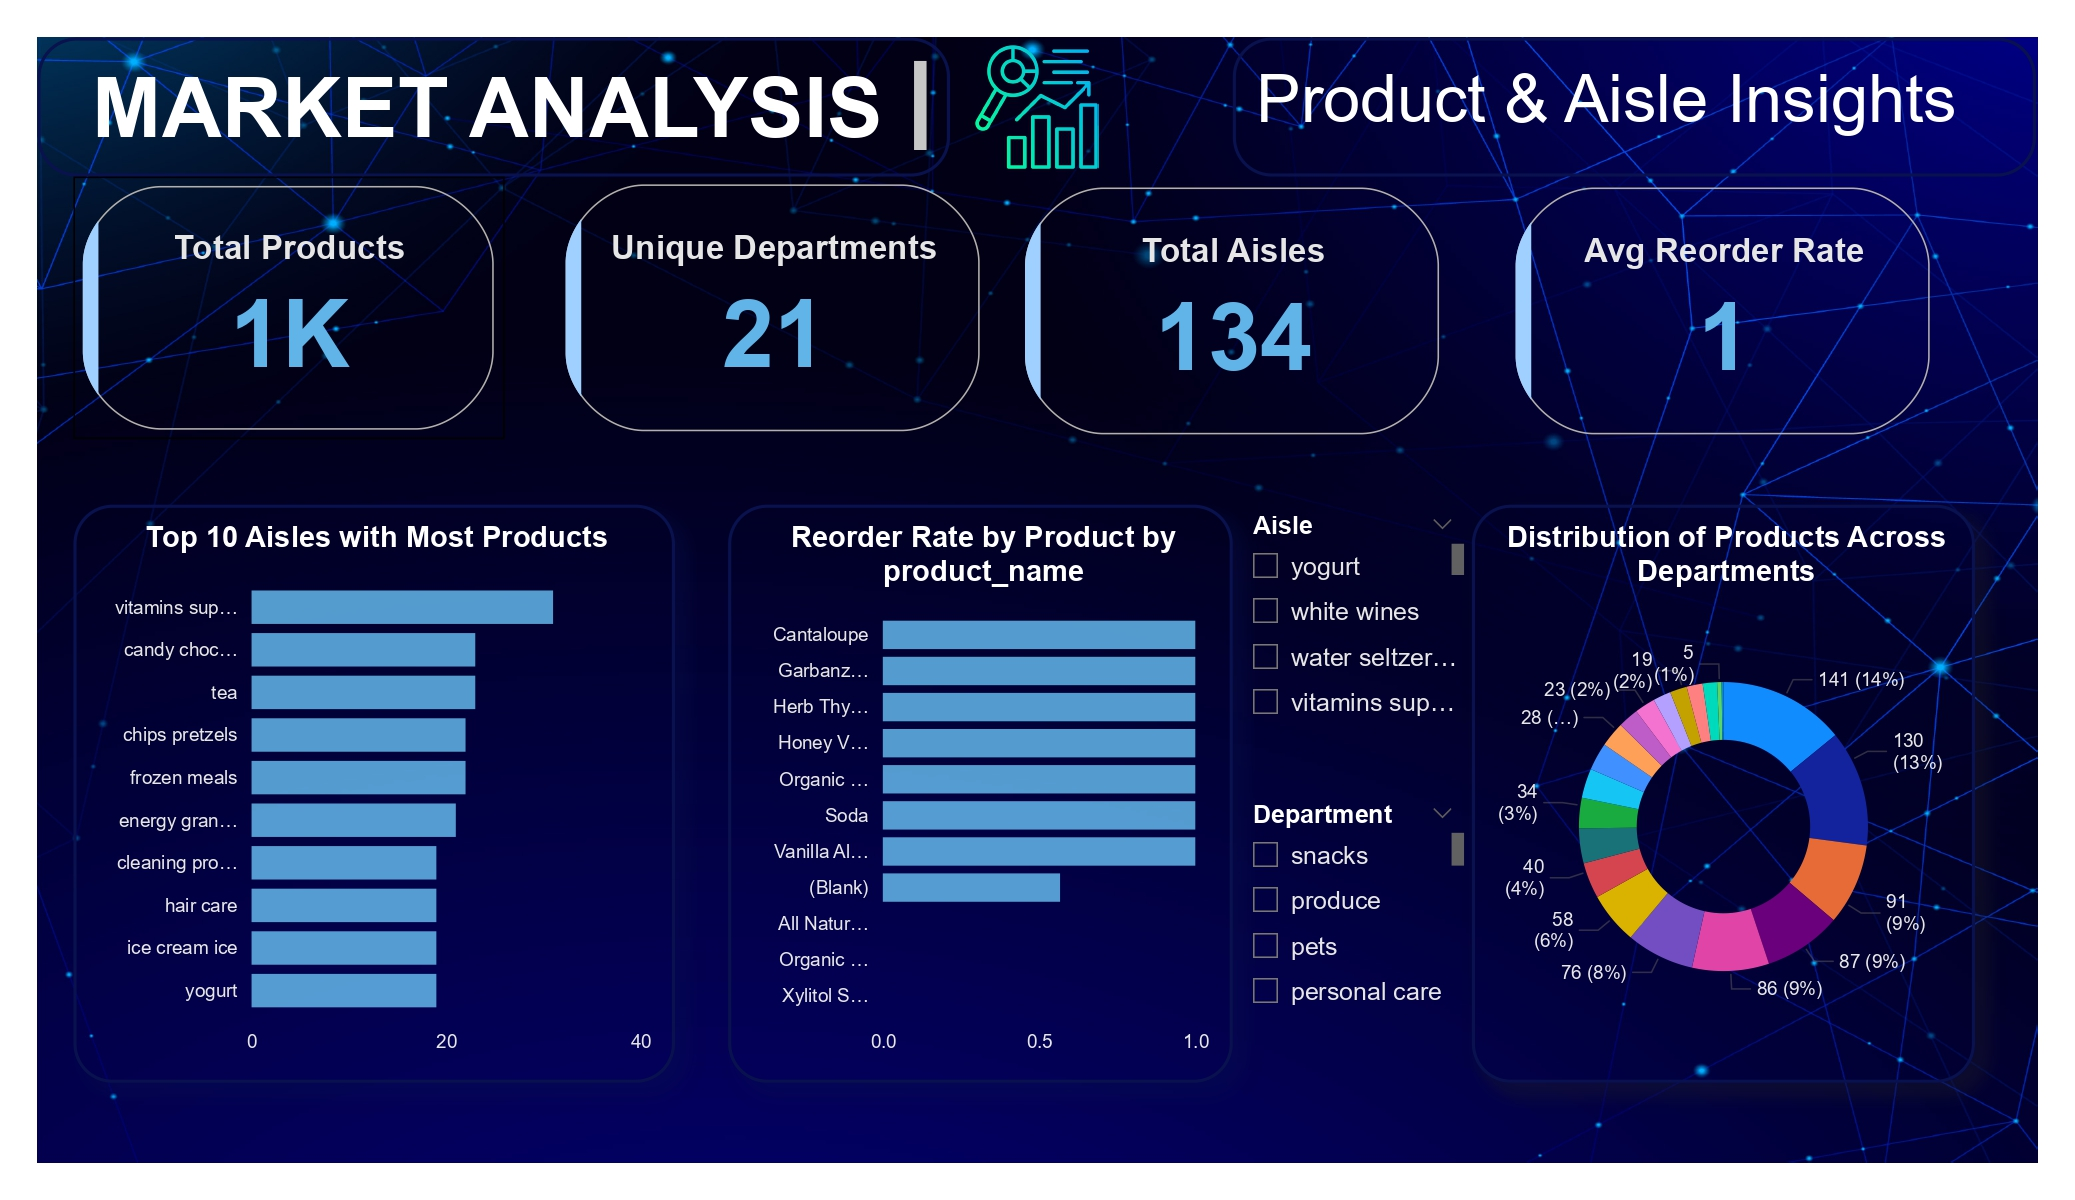

The dashboard page shown, as its layout file describes it:
{"tool":"powerbi","page":{"name":"Product & Aisle Insights","canvas":[1280,720],"ordinal":0},"visuals":[{"type":"barChart","title":"Top 10 Aisles with Most Products","fields":{"Category":["Asiles.aisle"],"Y":["CountNonNull(Products.product_id)"]},"box":[22.7,298.6,385.5,370.4],"z":0},{"type":"cardVisual","fields":{"Data":["Departments.Unique Departments"]},"box":[332.6,88.8,275.9,168.2],"z":1000},{"type":"donutChart","title":"Distribution of Products Across Departments","fields":{"Category":["Departments.department"],"Y":["CountNonNull(Products.product_id)"]},"box":[918.4,298.6,321.3,370.4],"z":2000},{"type":"barChart","fields":{"Category":["Products.product_name"],"Y":["Order_Products_Train.Reorder Rate by Product"]},"box":[442.2,298.6,323.2,370.4],"z":3000},{"type":"textbox","box":[0,0,583.9,88.8],"z":4000},{"type":"slicer","fields":{"Values":["Asiles.aisle"]},"box":[765.4,298.6,153.1,147.4],"z":5000},{"type":"cardVisual","fields":{"Data":["Products.Total Products"]},"box":[22.7,88.8,275.9,168.2],"z":6000},{"type":"cardVisual","fields":{"Data":["Asiles.Total Aisles"]},"box":[627.4,90.7,275.9,168.2],"z":7000},{"type":"cardVisual","fields":{"Data":["Order_Products_Train.Avg Reorder Rate"]},"box":[941.1,90.7,275.9,168.2],"z":8000},{"type":"slicer","fields":{"Values":["Departments.department"]},"box":[765.4,483.8,153.1,147.4],"z":9000},{"type":"textbox","box":[765.4,0,514,88.8],"z":10000},{"type":"image","box":[489.5,0,300.5,88.8],"z":11000}]}

Visuals, with their boxes in screenshot pixels (x1, y1, x2, y2):
"Top 10 Aisles with Most Products" barChart: {"left": 73, "top": 504, "right": 675, "bottom": 1083}
cardVisual - Departments.Unique Departments: {"left": 557, "top": 176, "right": 988, "bottom": 439}
"Distribution of Products Across Departments" donutChart: {"left": 1472, "top": 504, "right": 1975, "bottom": 1083}
barChart - Products.product_name x Order_Products_Train.Reorder Rate by Product: {"left": 728, "top": 504, "right": 1233, "bottom": 1083}
textbox: {"left": 38, "top": 38, "right": 950, "bottom": 176}
slicer - Asiles.aisle: {"left": 1233, "top": 504, "right": 1473, "bottom": 734}
cardVisual - Products.Total Products: {"left": 73, "top": 176, "right": 504, "bottom": 439}
cardVisual - Asiles.Total Aisles: {"left": 1018, "top": 179, "right": 1449, "bottom": 442}
cardVisual - Order_Products_Train.Avg Reorder Rate: {"left": 1508, "top": 179, "right": 1939, "bottom": 442}
slicer - Departments.department: {"left": 1233, "top": 793, "right": 1473, "bottom": 1024}
textbox: {"left": 1233, "top": 38, "right": 2037, "bottom": 176}
image: {"left": 802, "top": 38, "right": 1272, "bottom": 176}
